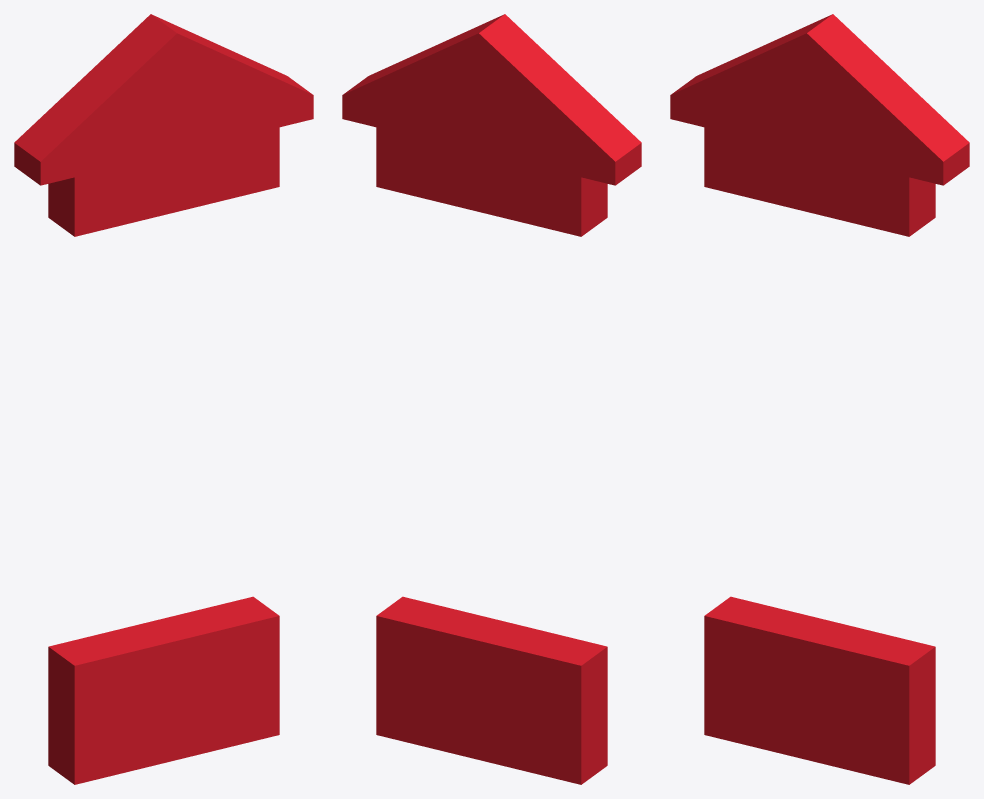
The model's file is tinker.obj.
3 views of the same model, side by side, from view 1: azimuth 30°, elevation 25°; view 2: azimuth 150°, elevation 25°; view 3: azimuth 330°, elevation 25° (orthographic).
Visible parts, largest first — view 1: obj_0; view 2: obj_0; view 3: obj_0.
Boxes of the visible parts, <box> form: obj_0: <box>14,14,313,784</box>; obj_0: <box>342,14,641,784</box>; obj_0: <box>670,14,969,784</box>.
Bounding box in the file's own units: 12 × 30.5 × 2.
